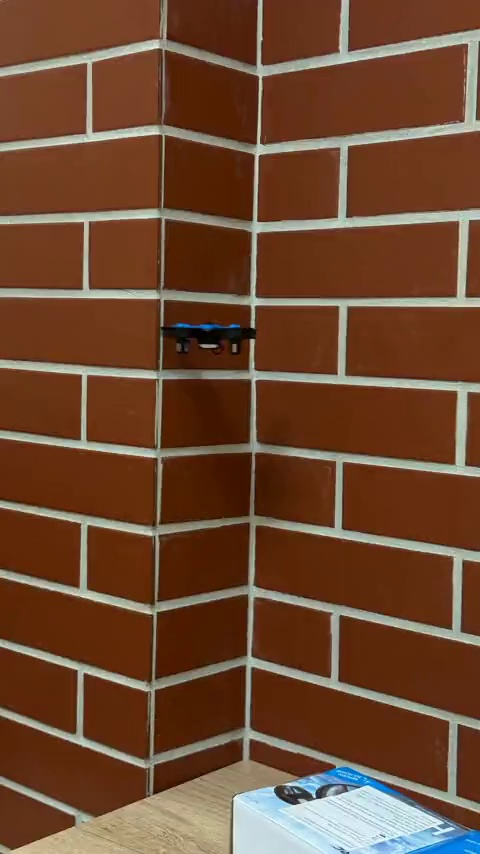drone: (160, 318, 255, 357)
